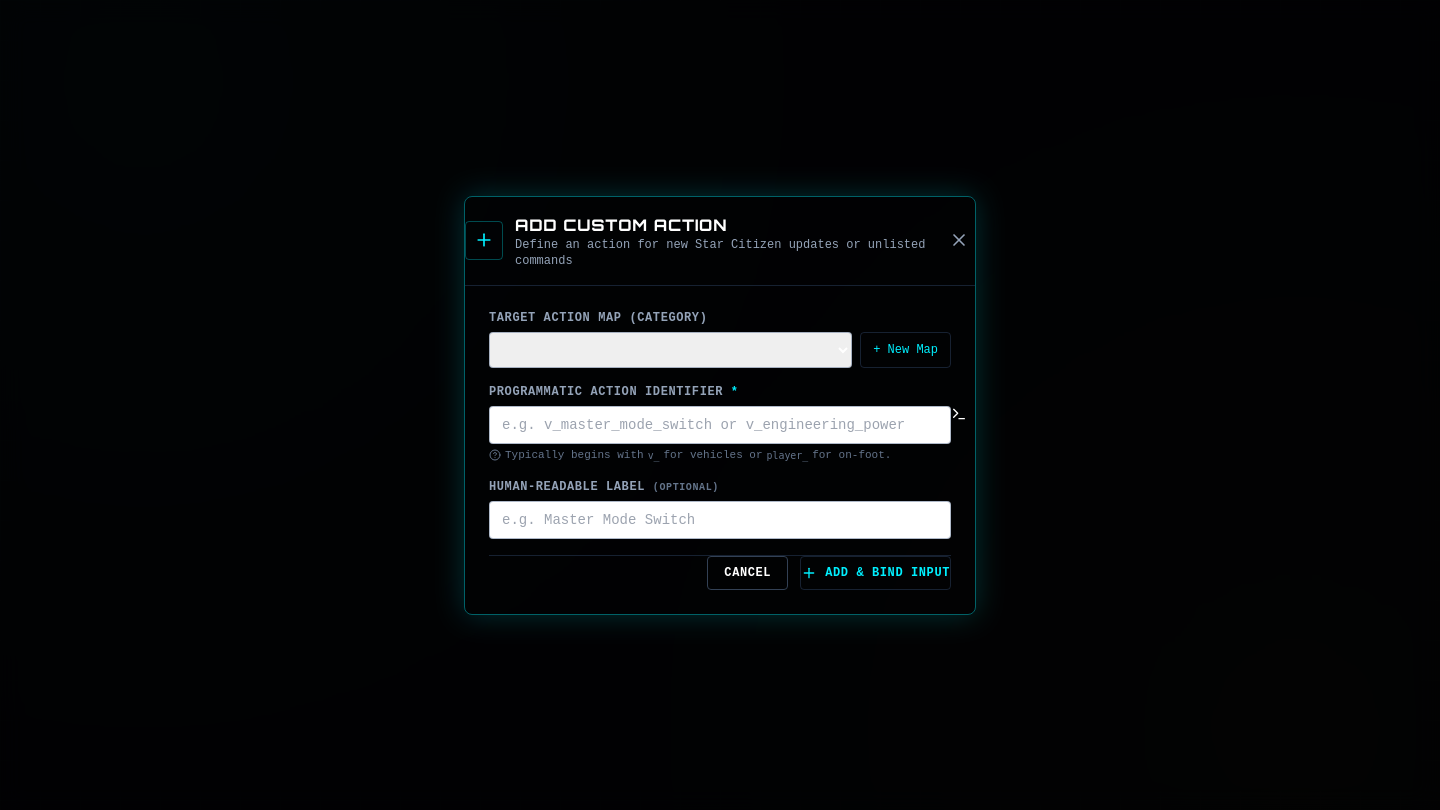
Test: AddCustomActionModal Component › validates required fields on submission
Note: Submit with custom map enabled but empty custom map name
Click the button "+ New Map" at (906, 350), box x1=860 y1=332 x2=951 y2=368
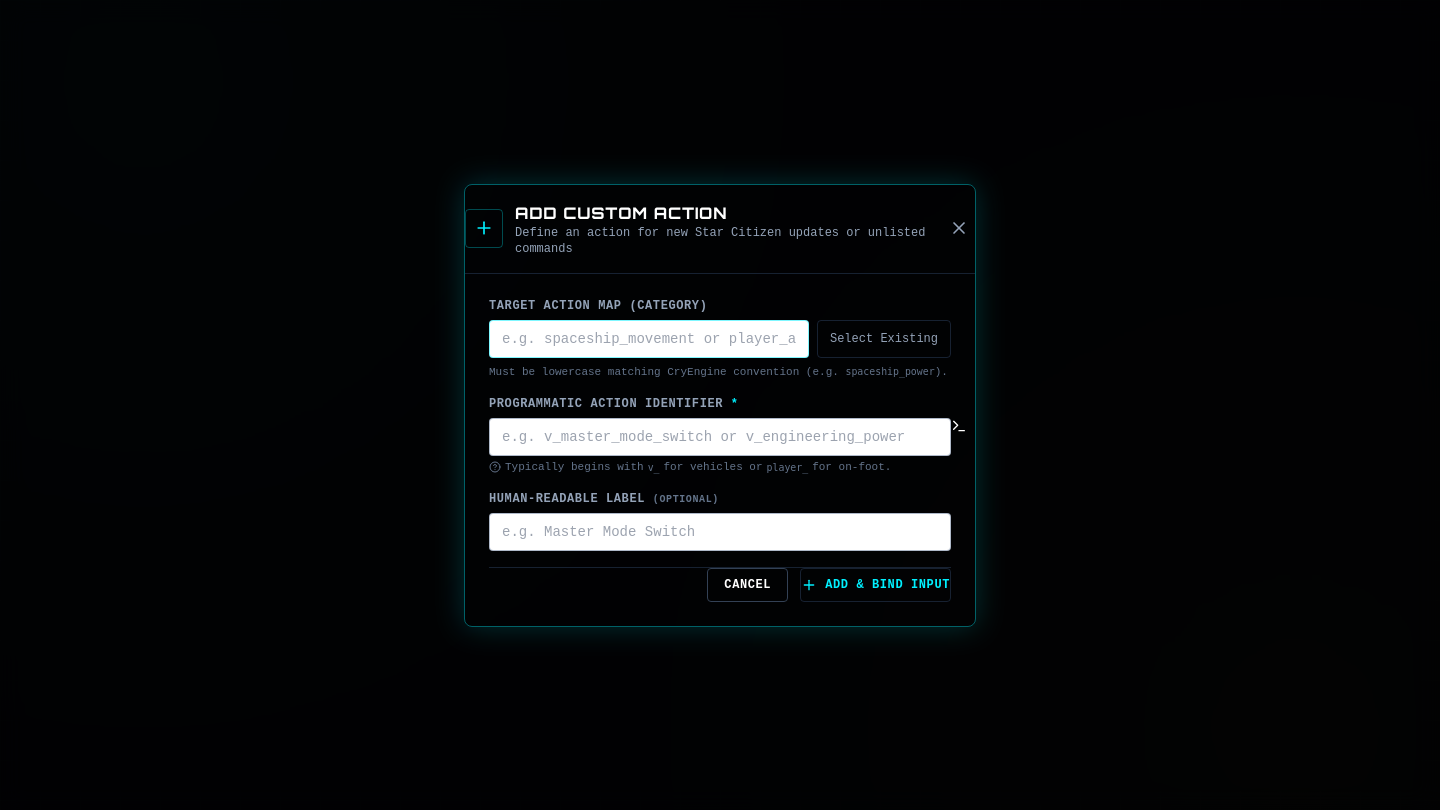
Submit the form, box x1=465 y1=274 x2=975 y2=626
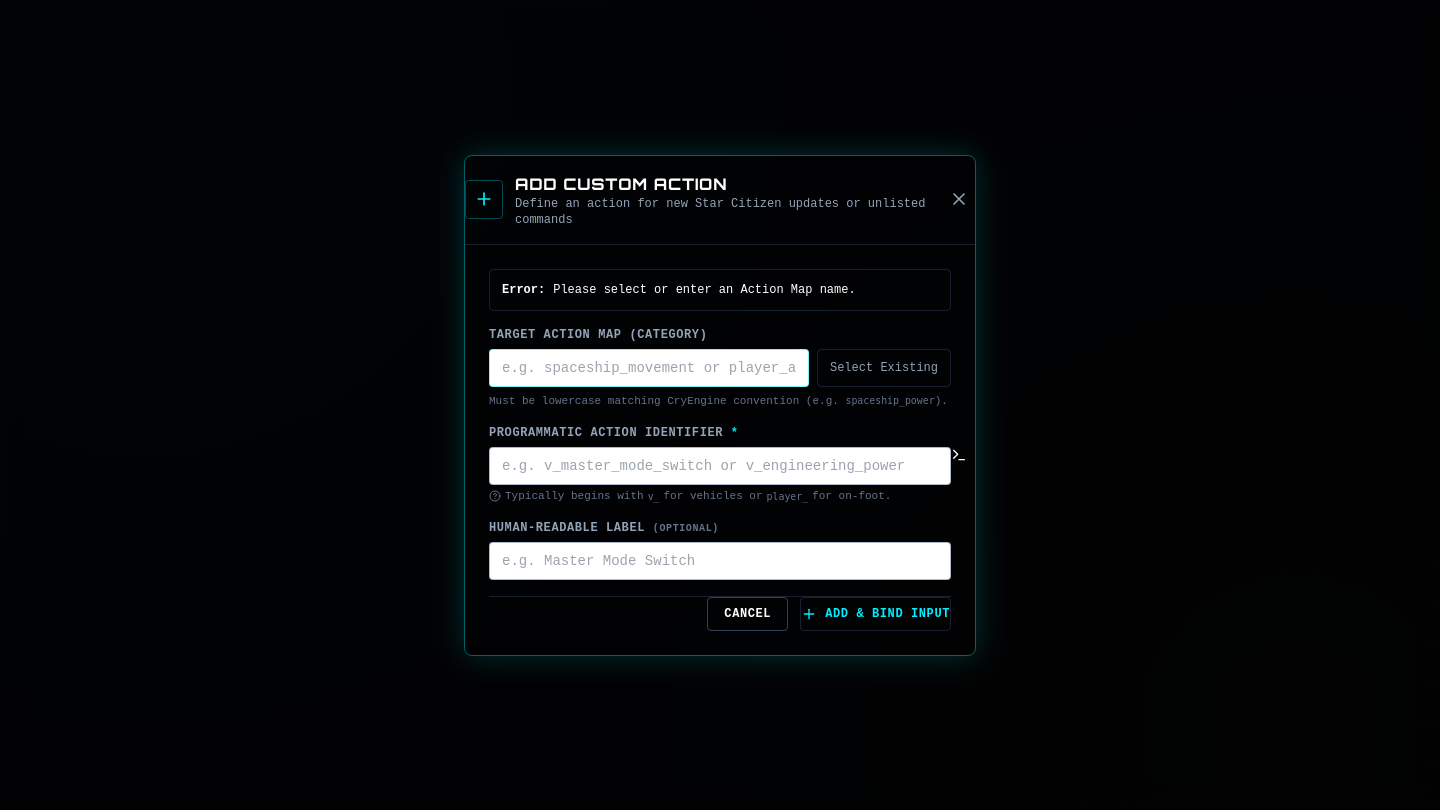
Result: the text "Error: Please select or enter an Action Map name." is shown at x1=489 y1=268 x2=951 y2=310
Note: Enter map name but keep action name empty
Type "custom_flight" into the field with placeholder "e.g. spaceship_movement or player_actions" at (649, 368), box x1=489 y1=348 x2=809 y2=386
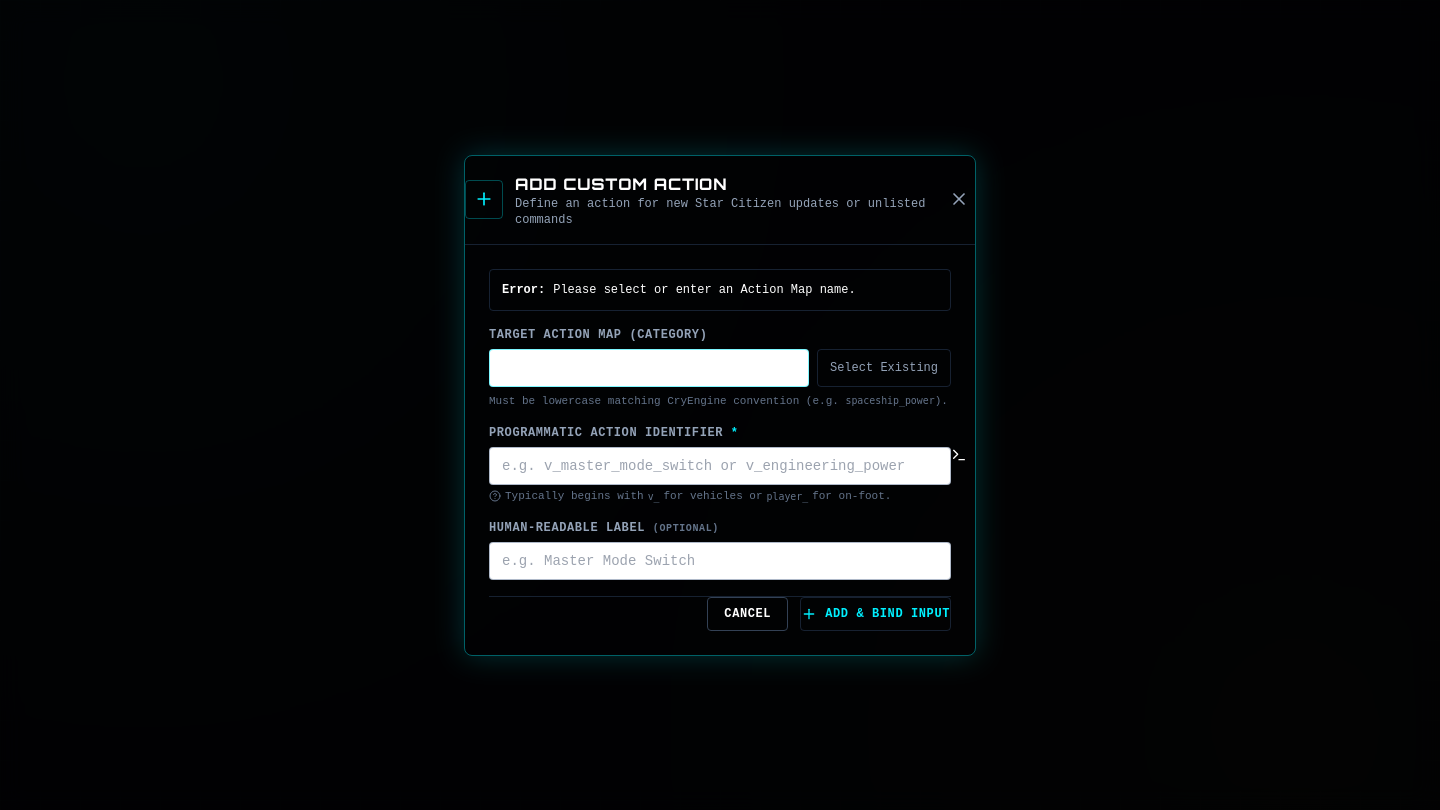
Submit the form, box x1=465 y1=244 x2=975 y2=654
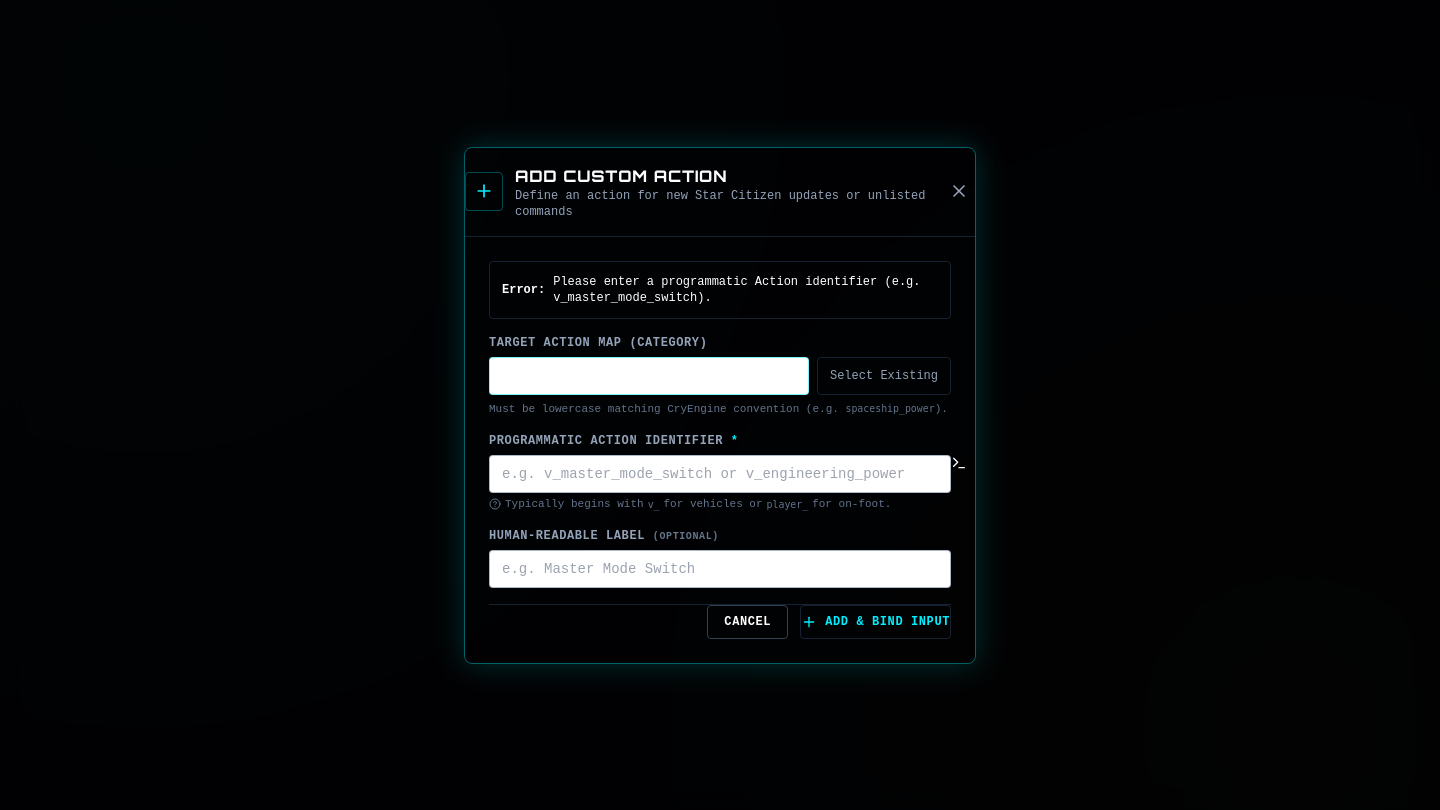
Result: the text "Please enter a programmatic Action identifier" is shown at x1=553 y1=274 x2=920 y2=304
